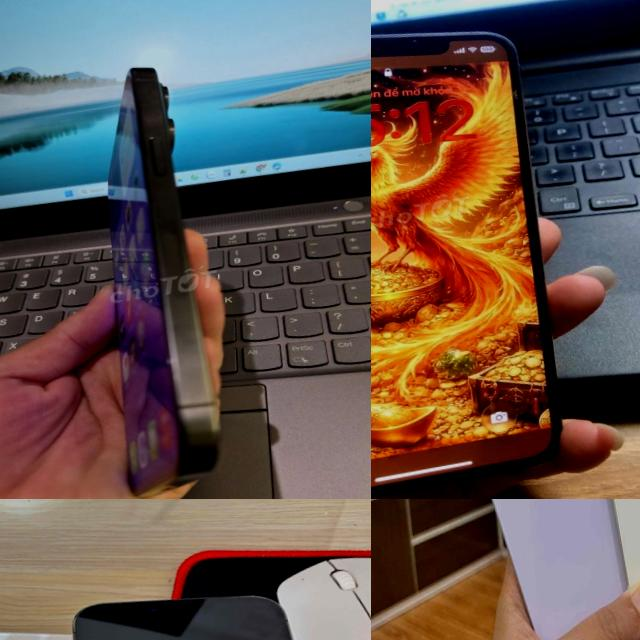gen_11: (371, 0, 602, 499)
gen_12_13: (36, 560, 371, 640)
gen_14: (560, 499, 640, 640)
gen_15: (49, 52, 266, 499)
scratch: (130, 70, 162, 93)
